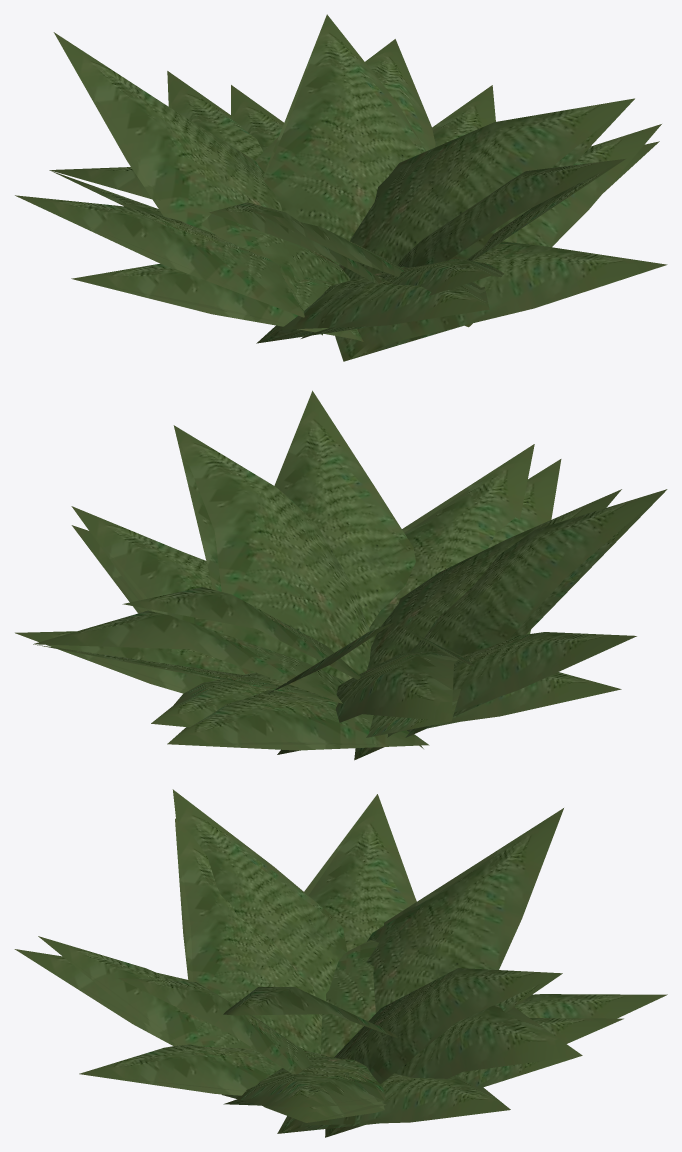
The model's file is forest-fern.glb.
The picture shows the model from 3 angles, top to bottom: view 1: azimuth 30°, elevation 25°; view 2: azimuth 150°, elevation 25°; view 3: azimuth 270°, elevation 25°; orthographic projection. The views are drawn at different scales.
Parts seen in each view (by area): view 1: high, low; view 2: high, low; view 3: high, low.
Boxes of the visible parts, bbox=[...] form: high: bbox=[15, 14, 667, 361]; low: bbox=[43, 18, 634, 360]; high: bbox=[15, 390, 667, 759]; low: bbox=[31, 426, 665, 759]; high: bbox=[14, 789, 667, 1137]; low: bbox=[23, 792, 581, 1137].
Size of the model in its own units: 2.29 by 0.85 by 2.34.
1 material, 1 textured.
